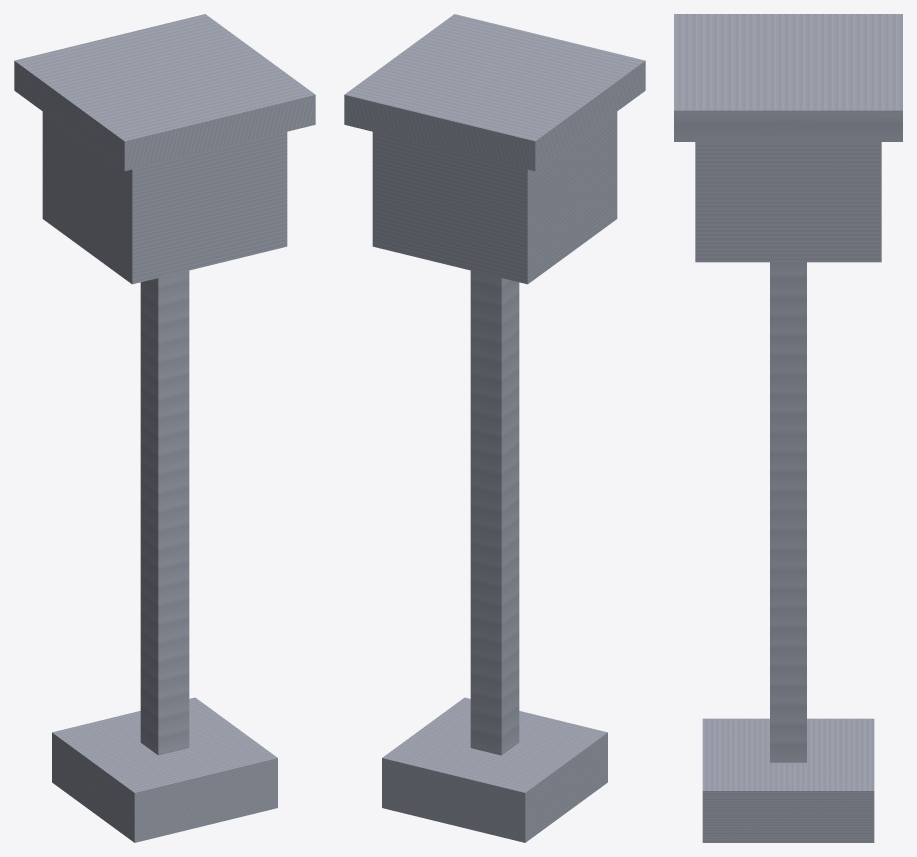
Rendered from lamp.obj.
The picture shows the model from 3 angles, left to right: view 1: azimuth 30°, elevation 25°; view 2: azimuth 150°, elevation 25°; view 3: azimuth 270°, elevation 25°; orthographic projection. The views are drawn at different scales.
Bounding box in the file's own units: 0.8 × 2.87 × 0.8.
Materials: 1 (1 with a texture image).
